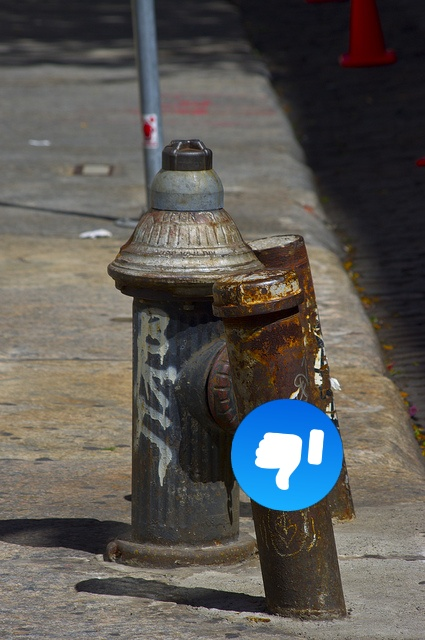like: (231, 399, 343, 511)
